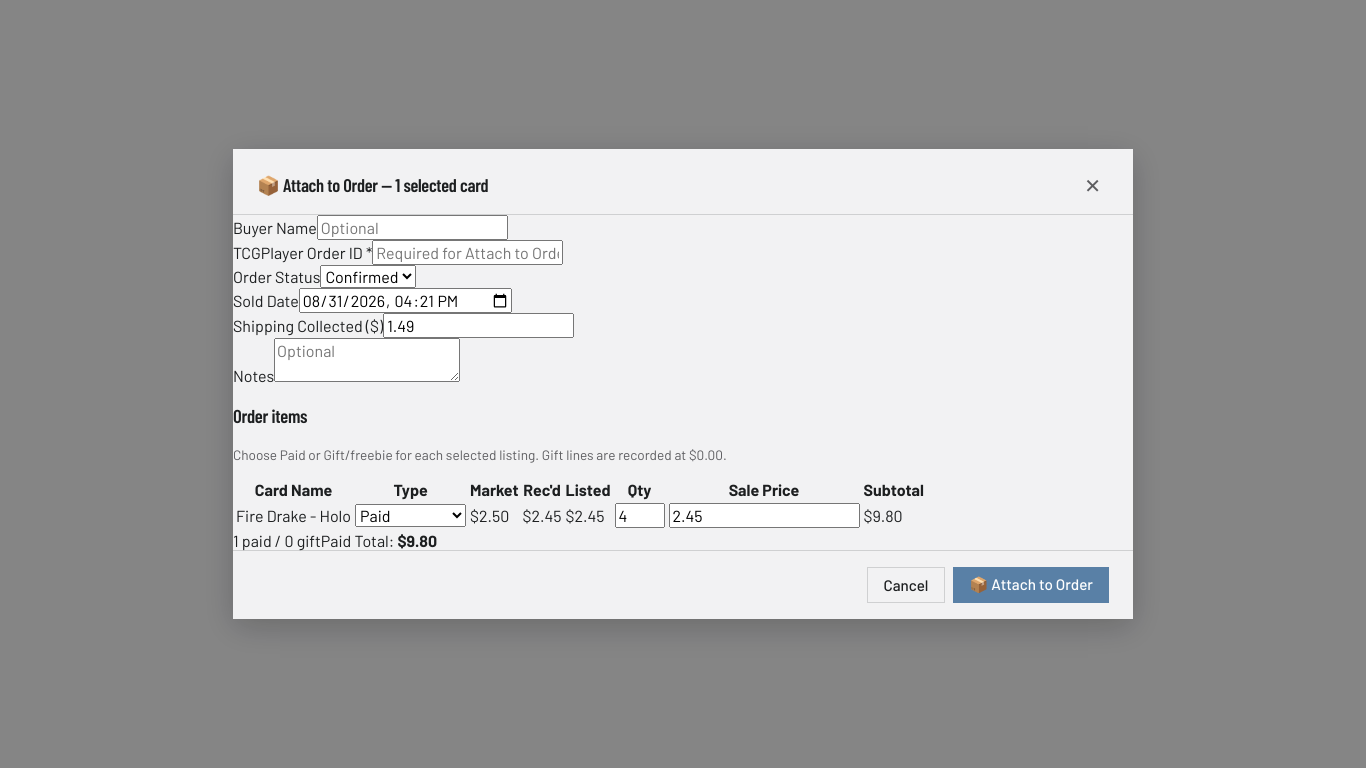
Scenario: BulkSellModal › requires order ID for all bulk orders
Click the button "📦 Attach to Order" at [1031, 584], box [953,566,1109,602]
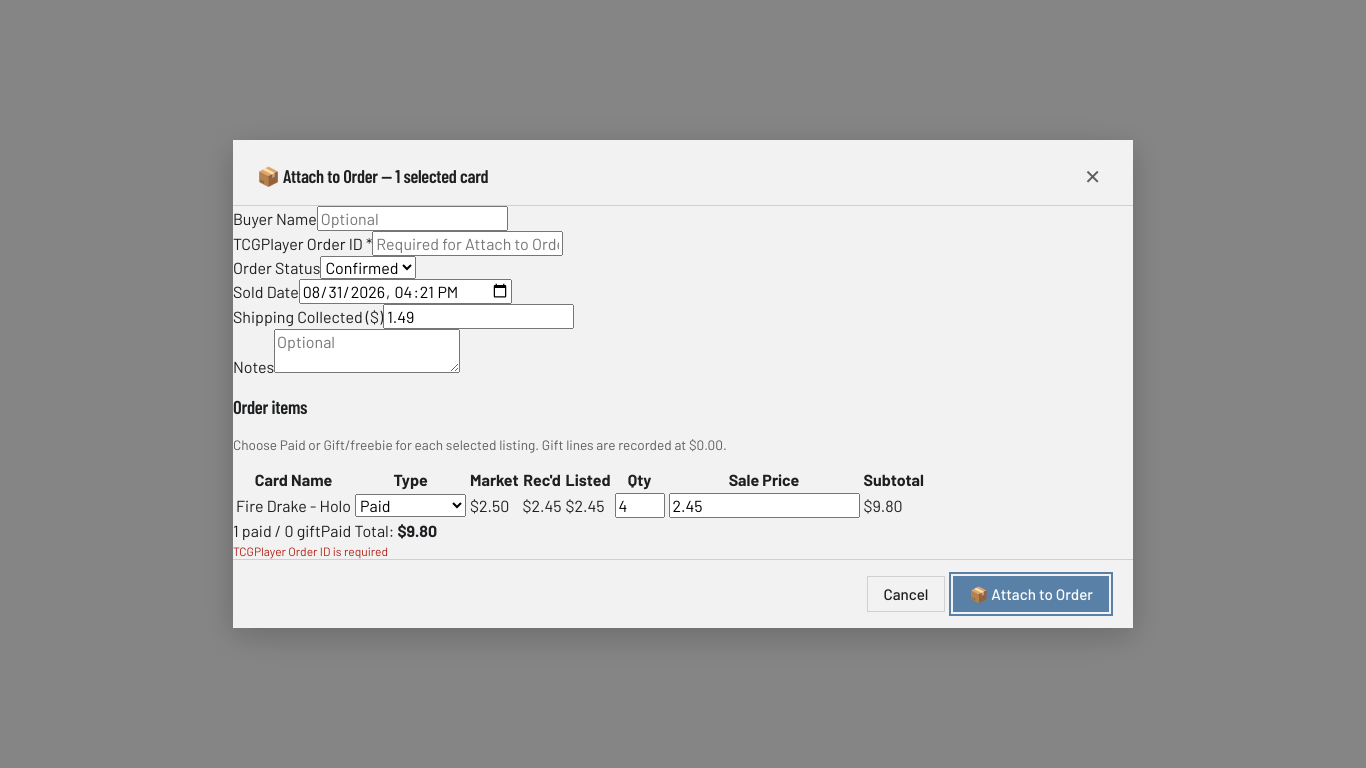
Check: the message reads "TCGPlayer Order ID is required", box [233,544,388,558]
